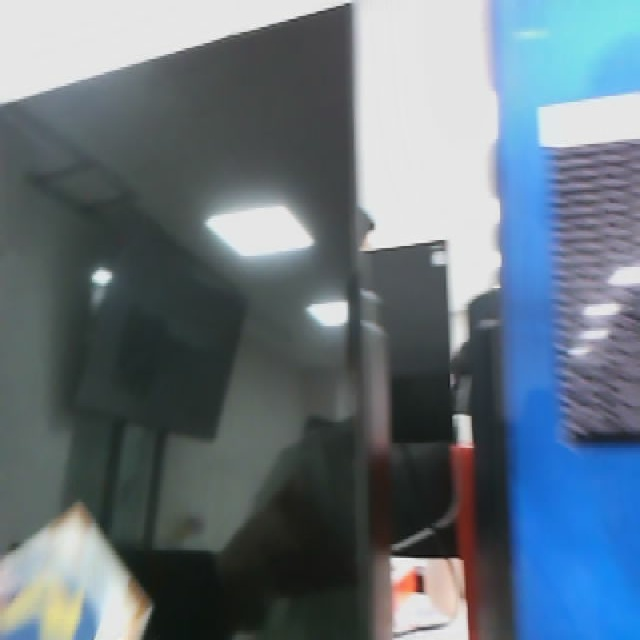right: (2, 498, 158, 640)
